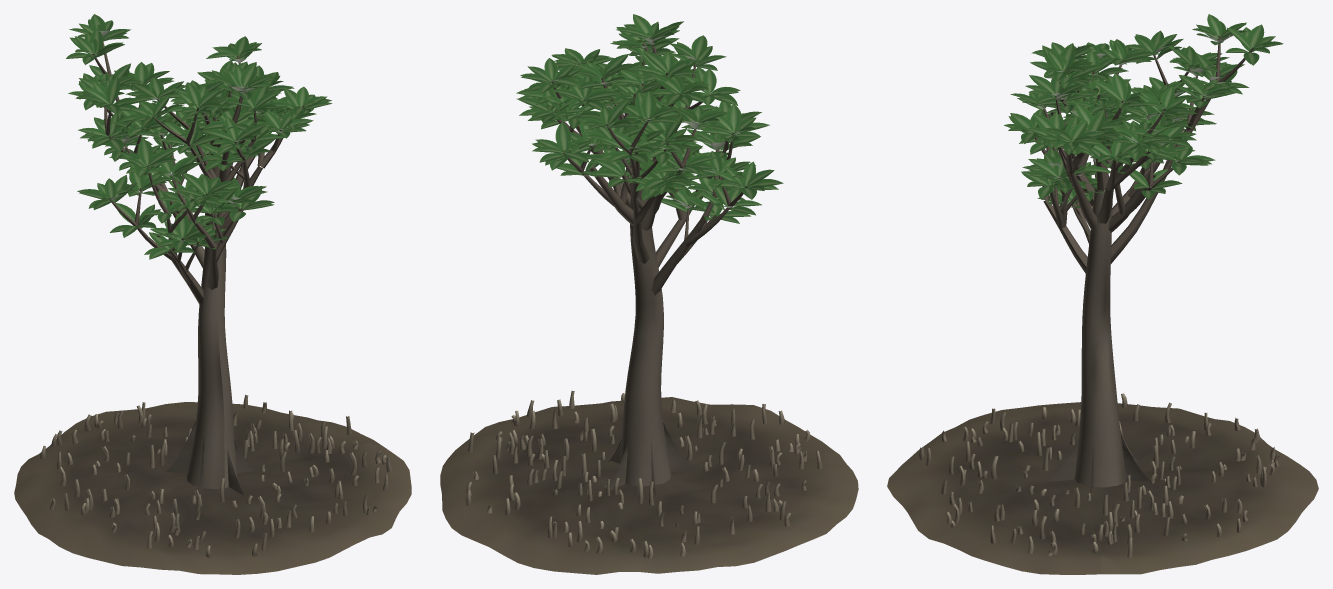
The model's file is sundari-mangrove.glb.
3 views of the same model, side by side, from view 1: azimuth 30°, elevation 25°; view 2: azimuth 150°, elevation 25°; view 3: azimuth 270°, elevation 25° (orthographic). The views are drawn at different scales.
Visible parts, largest first — view 1: tidal-mud, sundari-leaf-upper, bark, pneumatophores, sundari-leaf-lower; view 2: tidal-mud, sundari-leaf-upper, bark, pneumatophores, sundari-leaf-lower; view 3: tidal-mud, sundari-leaf-upper, bark, pneumatophores, sundari-leaf-lower.
Part boxes in pixels (bbox=[...]): tidal-mud: bbox=[14, 402, 411, 574]; sundari-leaf-upper: bbox=[66, 14, 332, 259]; bark: bbox=[92, 42, 303, 494]; pneumatophores: bbox=[40, 394, 392, 557]; sundari-leaf-lower: bbox=[83, 30, 305, 246]; tidal-mud: bbox=[440, 397, 858, 574]; sundari-leaf-upper: bbox=[516, 14, 783, 223]; bark: bbox=[551, 38, 747, 497]; pneumatophores: bbox=[466, 391, 822, 559]; sundari-leaf-lower: bbox=[552, 35, 744, 208]; tidal-mud: bbox=[887, 402, 1318, 574]; sundari-leaf-upper: bbox=[1004, 14, 1283, 207]; bark: bbox=[1033, 36, 1253, 492]; pneumatophores: bbox=[919, 393, 1279, 558]; sundari-leaf-lower: bbox=[1024, 31, 1240, 208].
Bounding box in the file's own units: 2.76 × 3.27 × 2.9.
